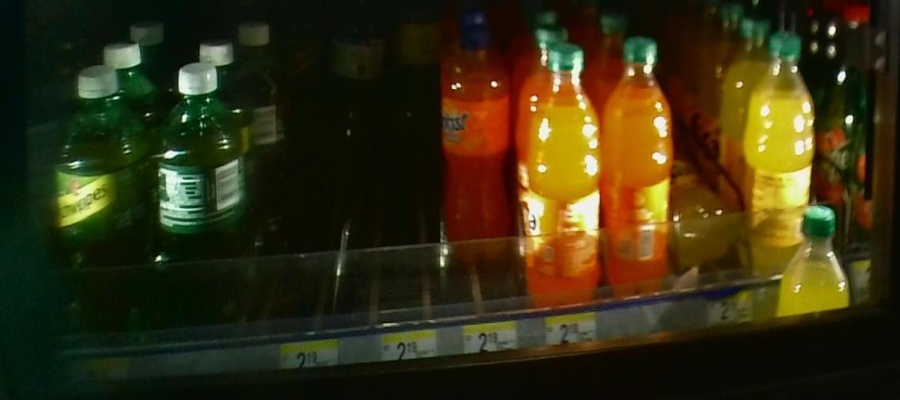bottle: (53, 62, 149, 342), (152, 63, 242, 342), (525, 42, 602, 308), (603, 34, 676, 308), (439, 25, 513, 265), (747, 37, 813, 278), (678, 138, 737, 283), (327, 11, 385, 148)
